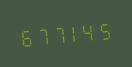five: (98, 17, 113, 42)
four: (82, 18, 97, 44)
one: (66, 20, 81, 45)
seven: (33, 22, 48, 48), (50, 21, 65, 47)
six: (17, 24, 32, 49)
